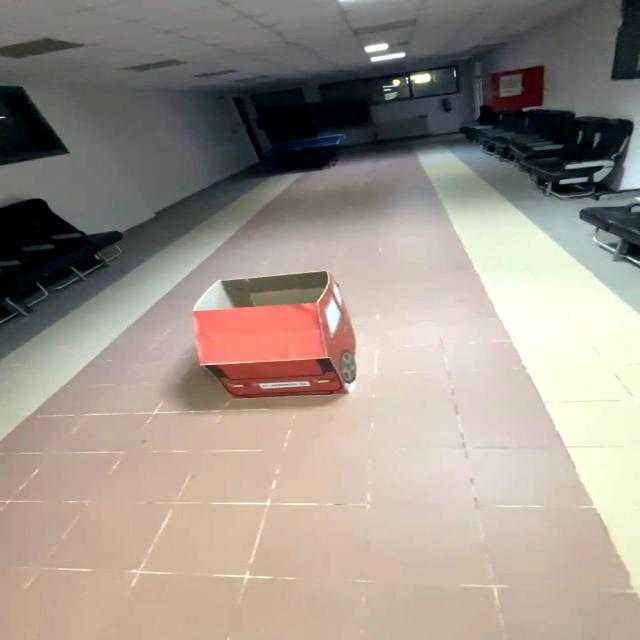red_car: (164, 258, 399, 415)
